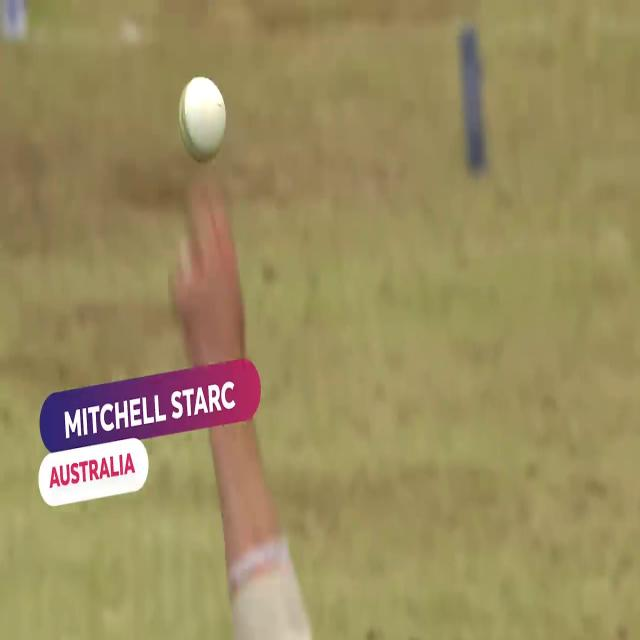ball: (177, 71, 227, 165)
